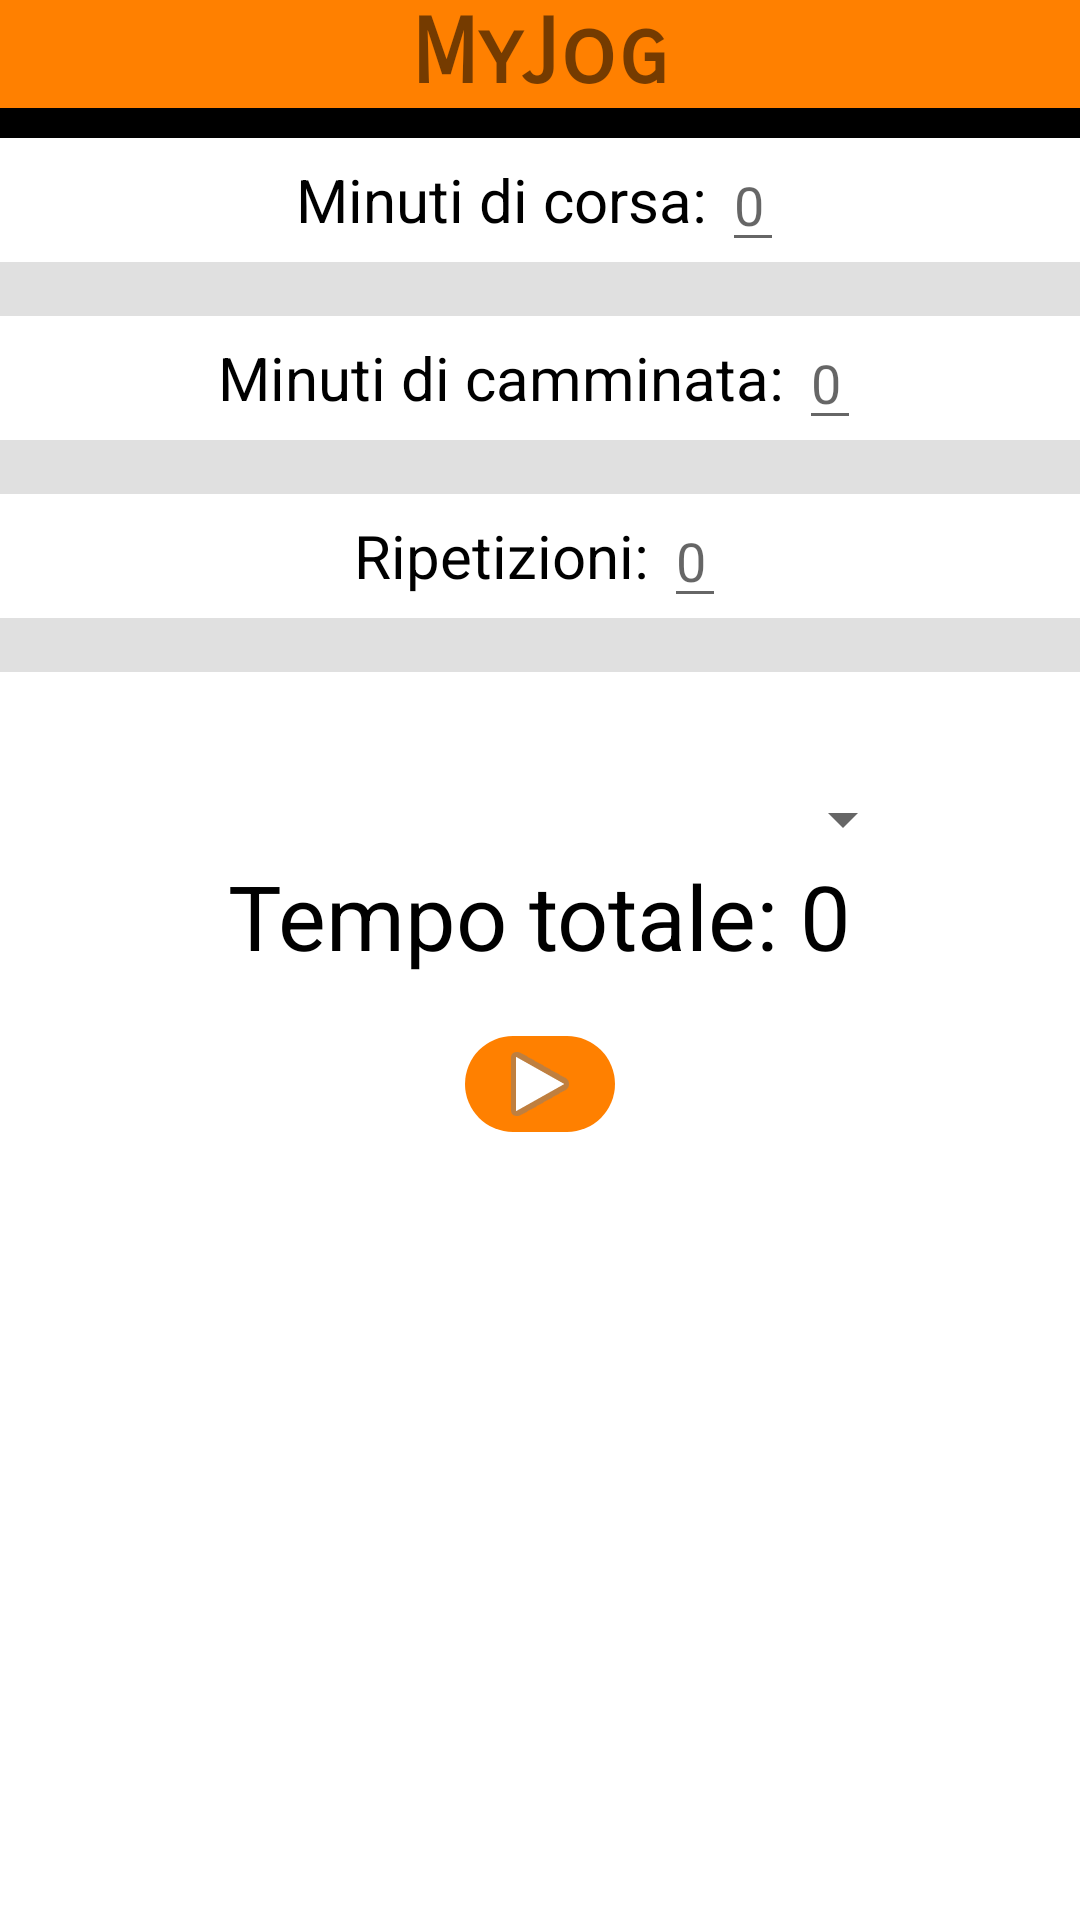

Where icons sit on this 1080 x 1920 app screen, as (x1, y1, x2, y2):
play: (465, 1036, 615, 1132)
